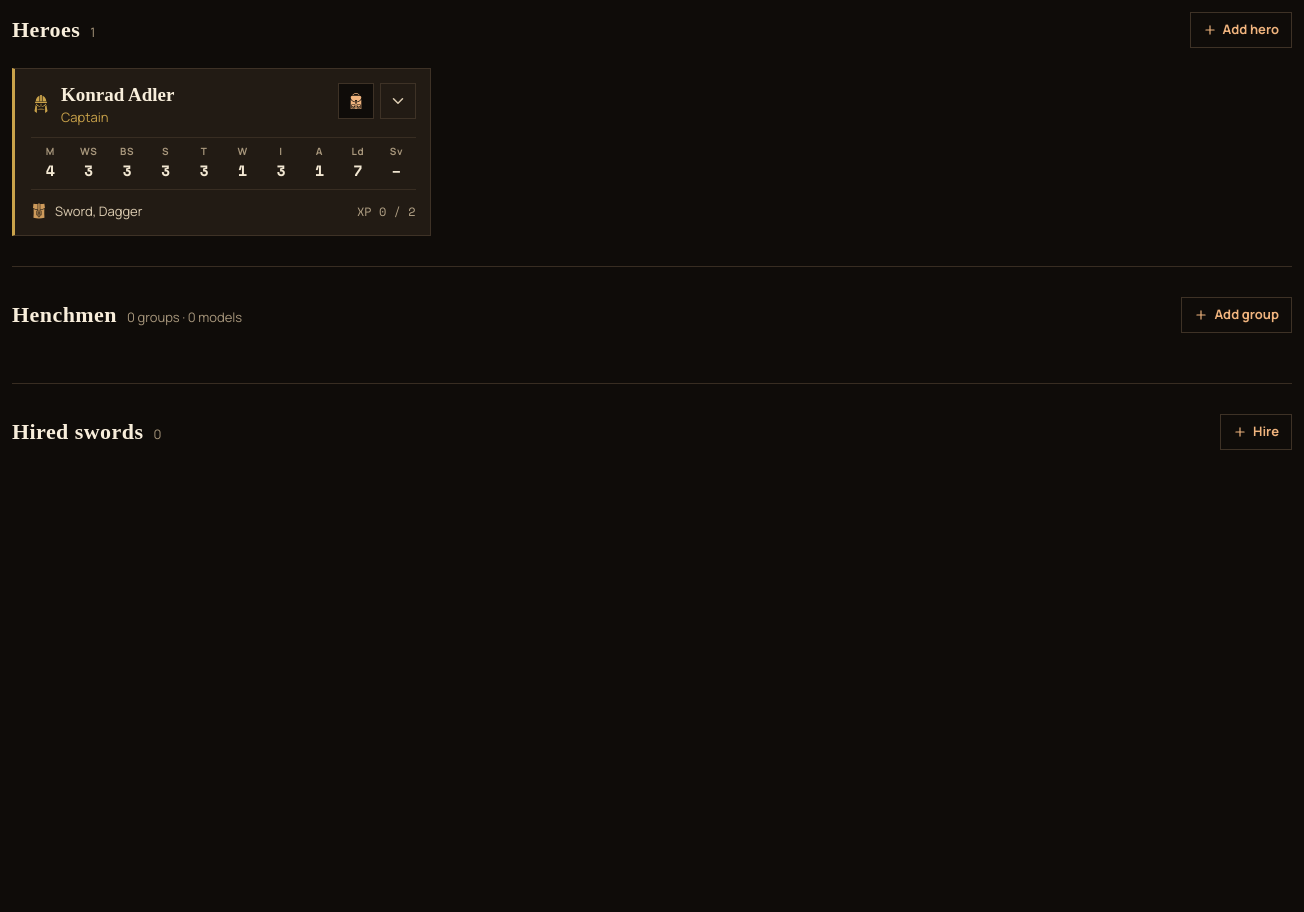
Scenario: Selling an item from an open card › prices the item now open, not the one opened before
Click the button named "Open Konrad Adler": [398, 101] box [380,83,416,119]
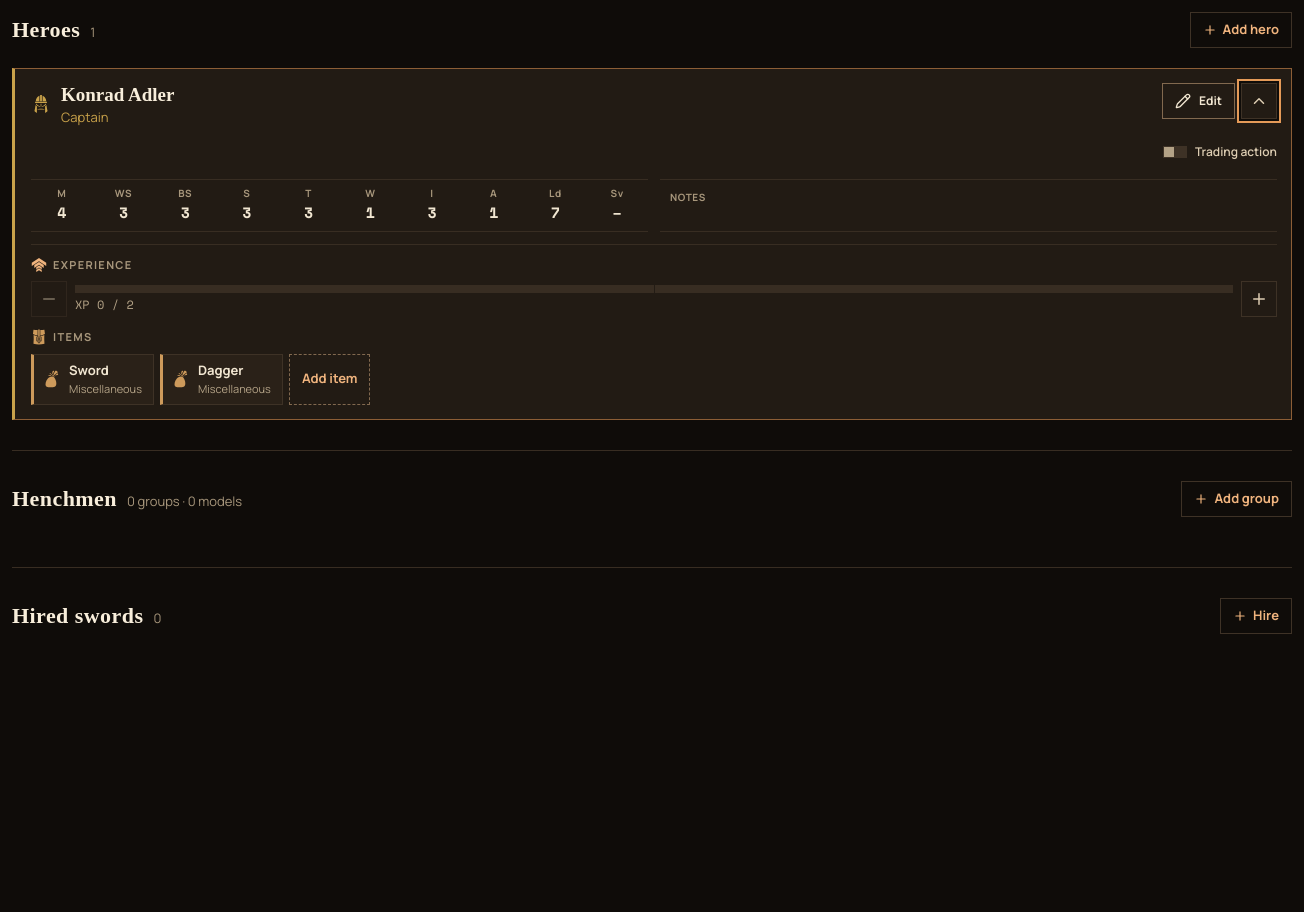
Click the button "Sword Miscellaneous": [92, 379] box [31,354,154,404]
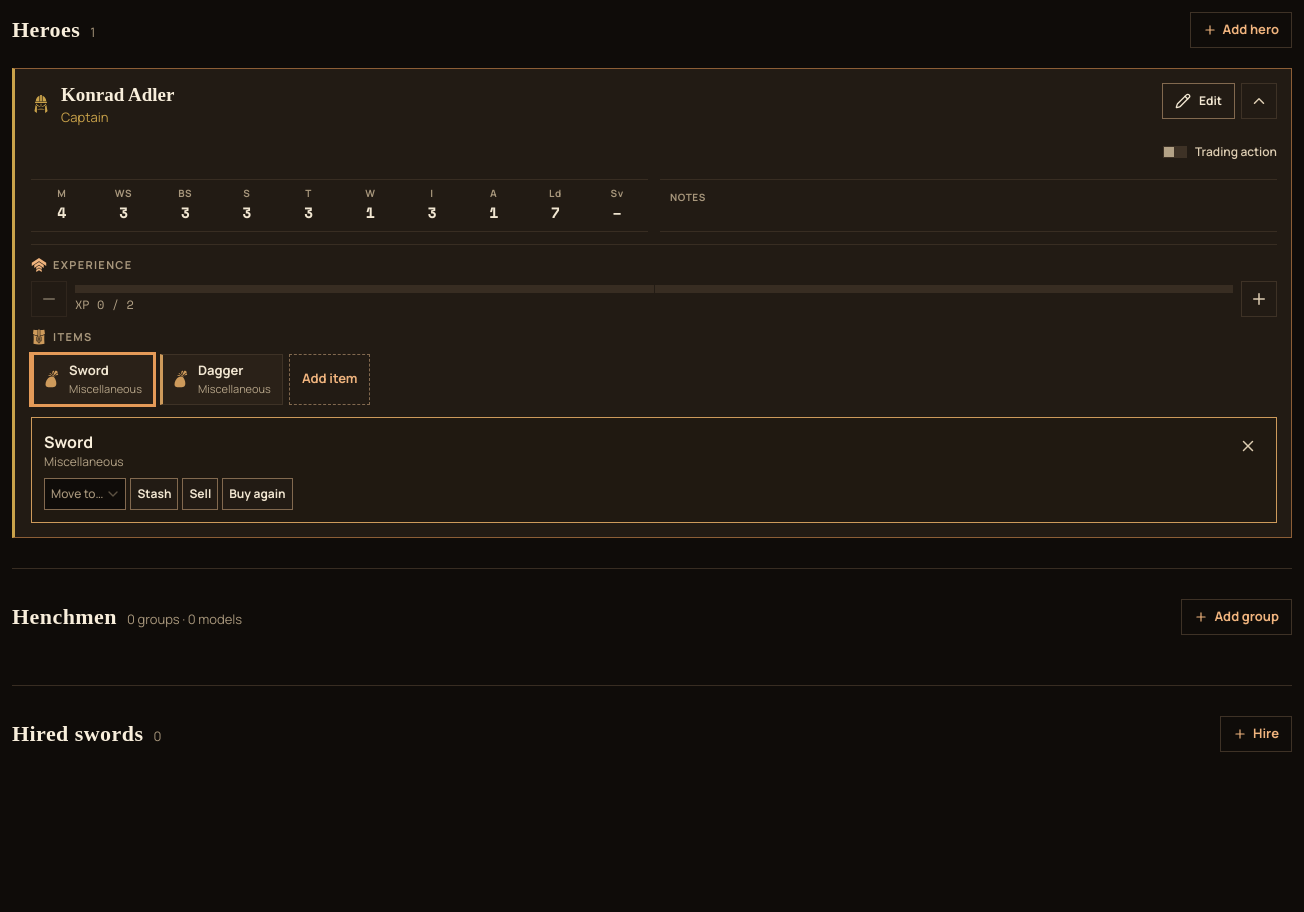
Click the button "Sell": [200, 494] box [182,478,218,510]
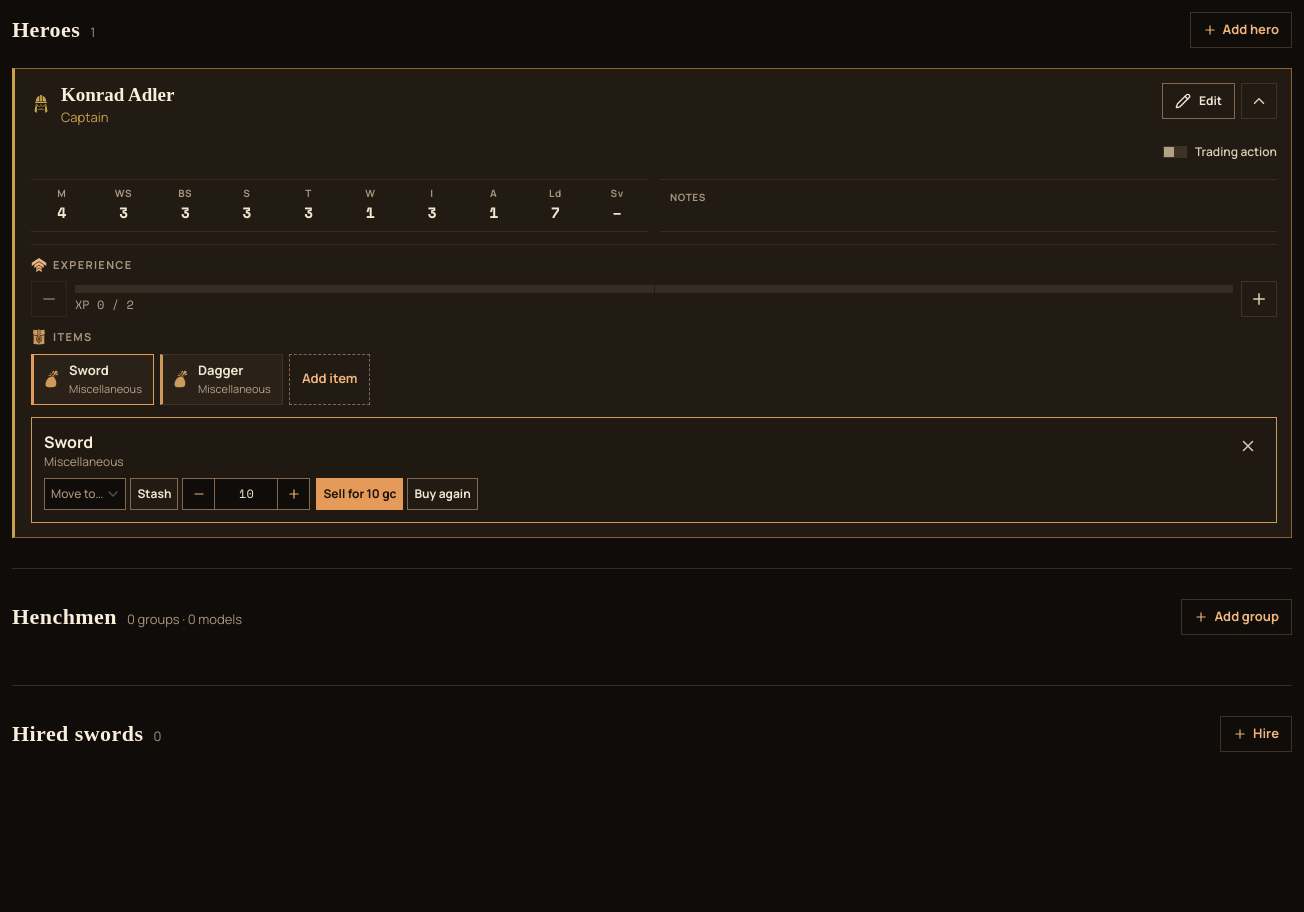
Check: the button "Sell for 10 gc" is shown, box [316,478,403,510]
Click the button "Dagger Miscellaneous": [221, 379] box [160,354,283,404]
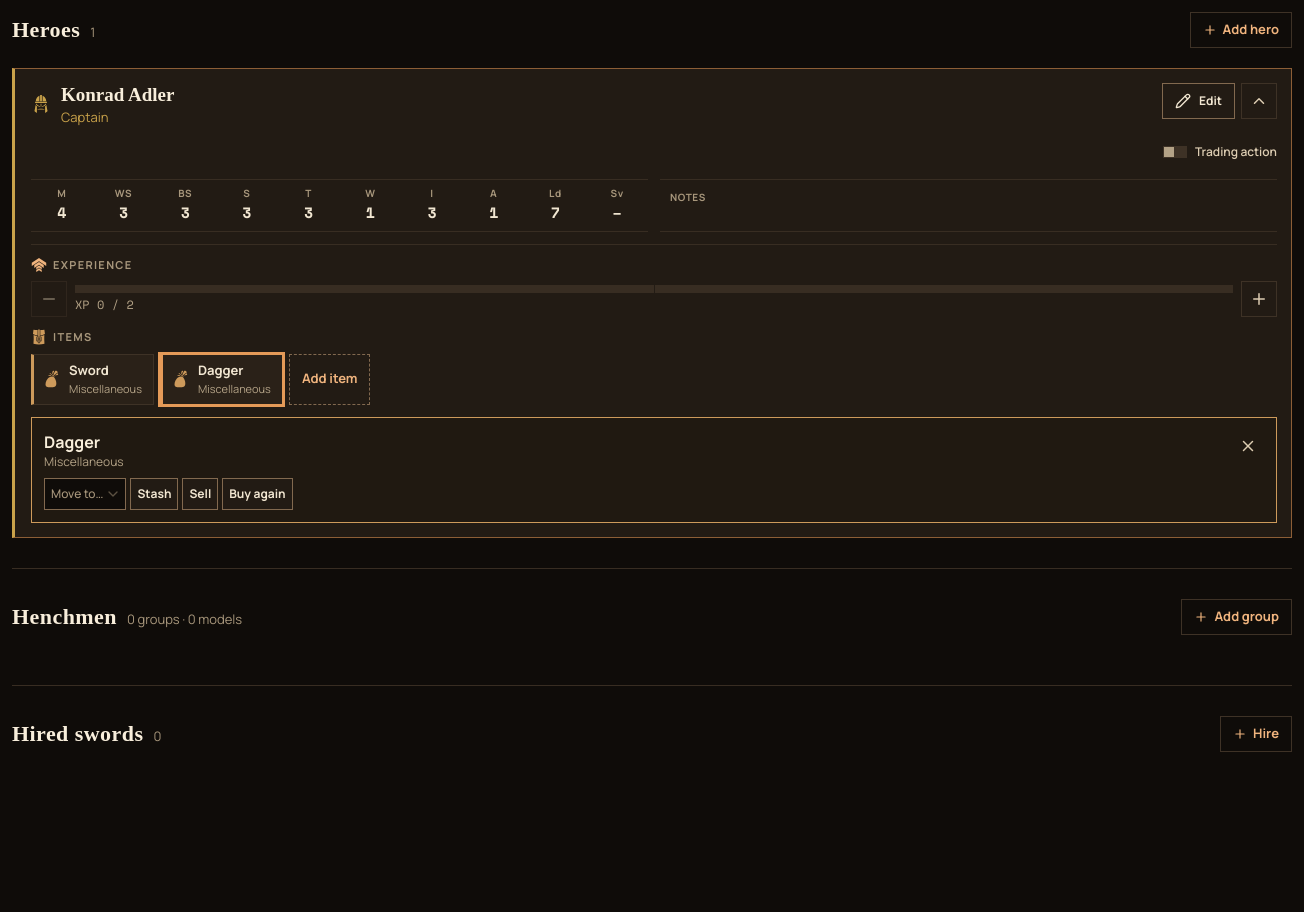
Check: the button "Sell for 10 gc" is gone
Click the button "Sell": [200, 494] box [182,478,218,510]
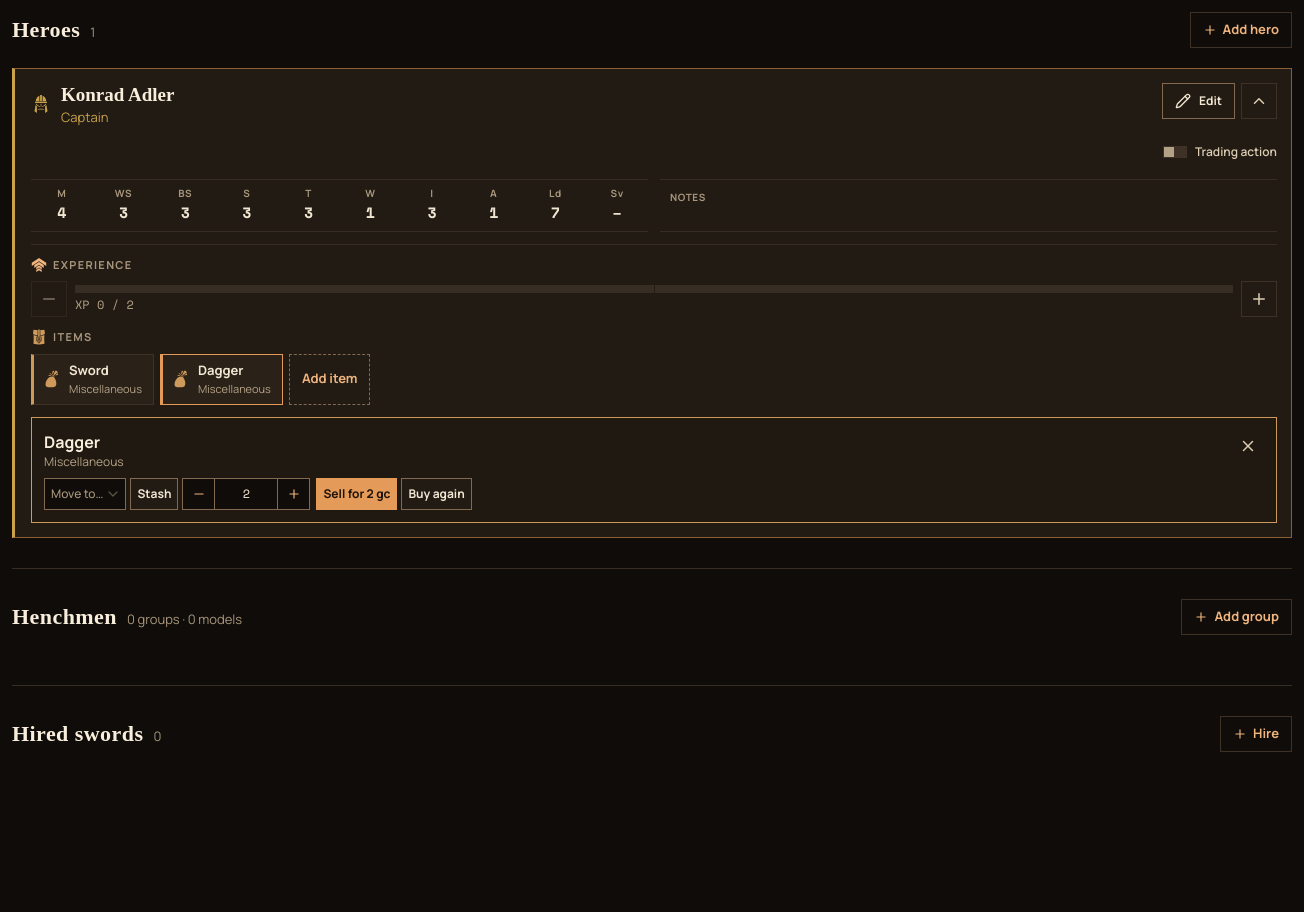
Check: the button "Sell for 2 gc" is shown, box [316,478,397,510]
